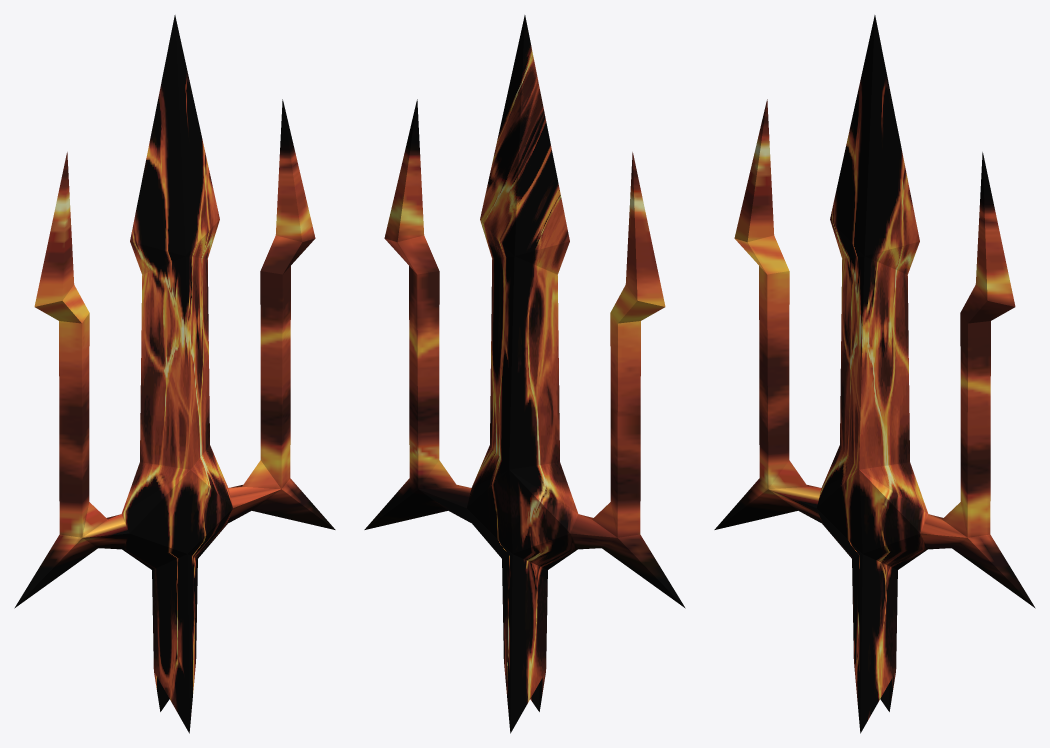
The model's file is qianca.FBX.
3 views of the same model, side by side, from view 1: azimuth 30°, elevation 25°; view 2: azimuth 150°, elevation 25°; view 3: azimuth 330°, elevation 25° (orthographic).
Visible parts, largest first — view 1: body; view 2: body; view 3: body.
Part boxes in pixels (x1=…): body: x1=14, y1=15, x2=335, y2=733; body: x1=364, y1=15, x2=685, y2=733; body: x1=714, y1=15, x2=1035, y2=733.
Size of the model in its own units: 8.64 by 18.2 by 1.46.
